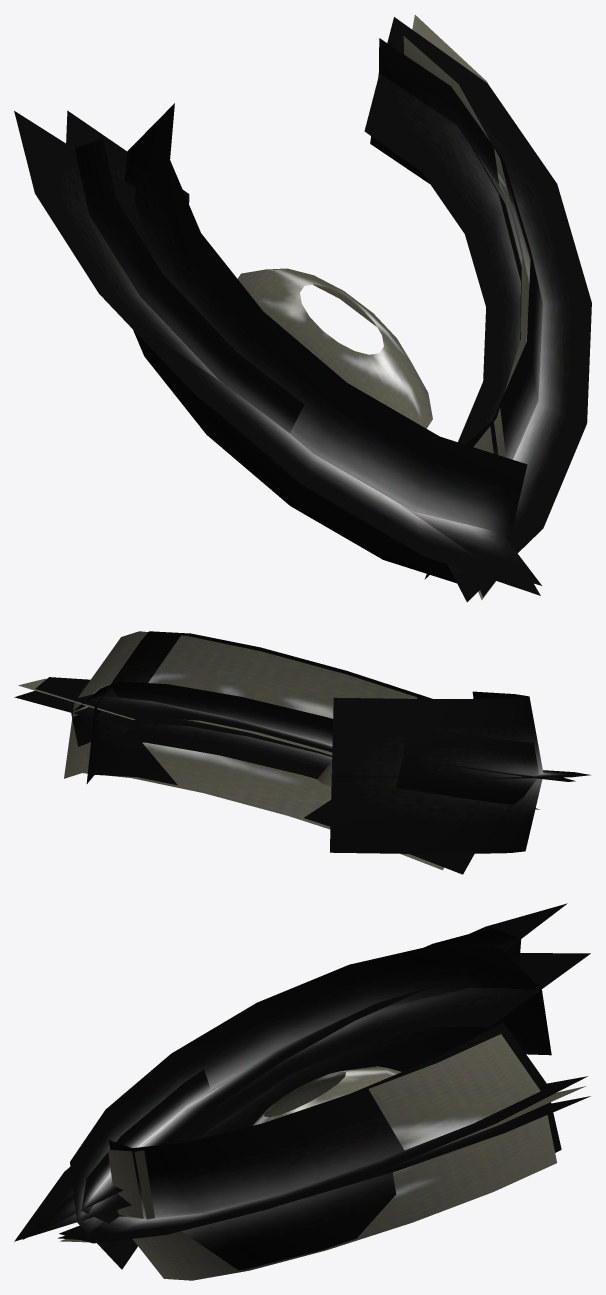
The model's file is Effect_3007bigskill_S.fbx.
3 renders of one model, top to bottom at view 1: azimuth 30°, elevation 25°; view 2: azimuth 150°, elevation 25°; view 3: azimuth 270°, elevation 25°, orthographic. The views are drawn at different scales.
Parts seen in each view (by area): view 1: Effect_1001tattack03 (×2), Effect_1001tattack02 (×2), Effect_1001tattack01 (×2); view 2: Effect_1001tattack03 (×2), Effect_1001tattack02 (×2), Effect_1001tattack01; view 3: Effect_1001tattack03 (×2), Effect_1001tattack01 (×2), Effect_1001tattack02 (×2).
Boxes of the visible parts, bbox=[...] form: Effect_1001tattack03 (×2): bbox=[66, 17, 591, 602]; Effect_1001tattack02 (×2): bbox=[14, 105, 541, 597]; Effect_1001tattack01 (×2): bbox=[237, 15, 529, 599]; Effect_1001tattack03 (×2): bbox=[35, 631, 590, 874]; Effect_1001tattack02 (×2): bbox=[14, 681, 575, 804]; Effect_1001tattack01: bbox=[18, 631, 443, 870]; Effect_1001tattack03 (×2): bbox=[14, 945, 590, 1270]; Effect_1001tattack01 (×2): bbox=[60, 1034, 586, 1280]; Effect_1001tattack02 (×2): bbox=[23, 903, 590, 1239].
Size of what is drawn, in the model's own units: 4.51 by 3.38 by 5.72.
3 materials, 3 textured.
